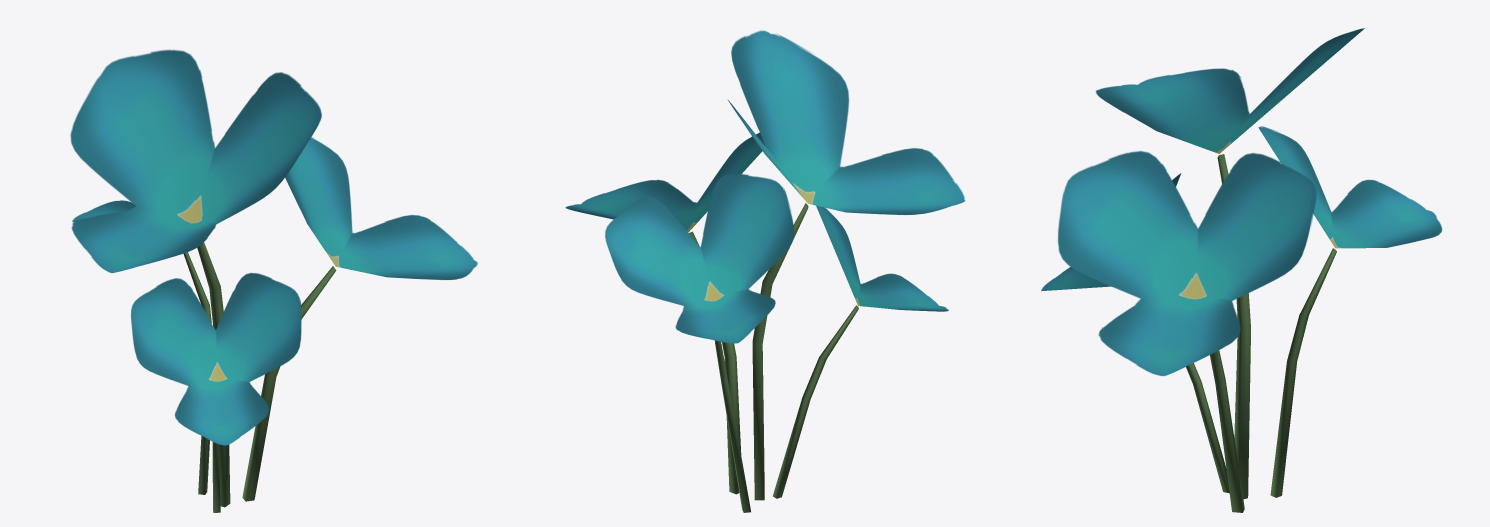
File: Flower_3.glb
3 views of the same model, side by side, from view 1: azimuth 30°, elevation 25°; view 2: azimuth 150°, elevation 25°; view 3: azimuth 270°, elevation 25° (orthographic). The views are drawn at different scales.
Visible parts, largest first — view 1: Flower_3_Clump; view 2: Flower_3_Clump; view 3: Flower_3_Clump.
Boxes of the visible parts, x1,y1,x2,y2 form: Flower_3_Clump: [70, 49, 477, 512]; Flower_3_Clump: [565, 30, 965, 512]; Flower_3_Clump: [1041, 28, 1442, 512].
Size of the model in its own units: 0.426 by 0.4508 by 0.3735.
1 material, 1 textured.
